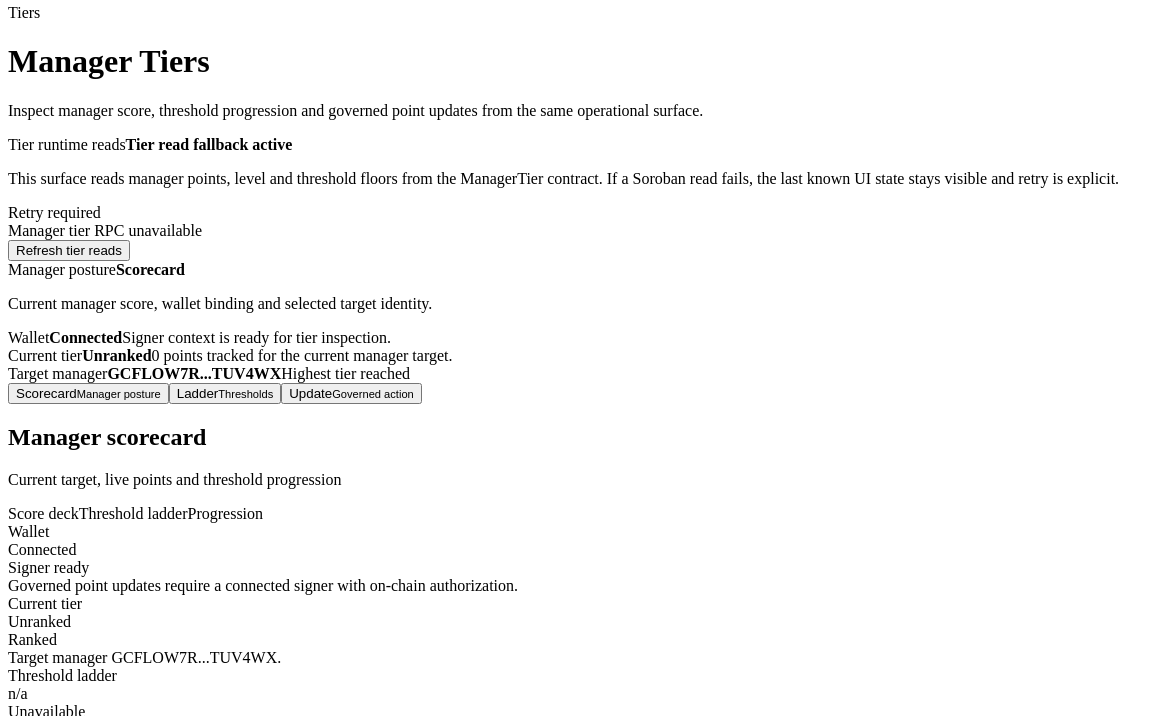
Test case: operator surface matrix integration › keeps Tiers readable after Soroban failure and preserves manager inputs on retry
Check: the text with test id "tiers-read-error" reads "Manager tier RPC unavailable", box [8,222,202,239]
Check: the element with test id "tiers-runtime-read-posture" shows "Tier read fallback active", box [126,136,292,153]
Click the button with test id "tiers-workspace-tab-update" at (351, 393), box [281,383,422,404]
(page scrolled)
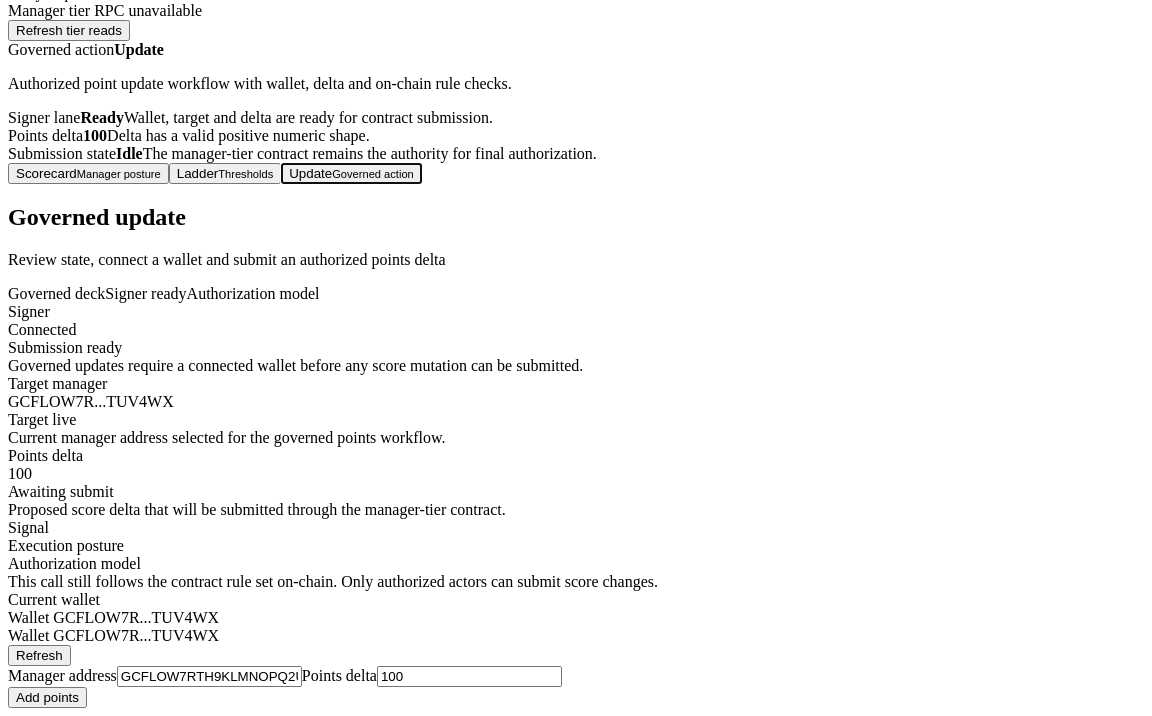
Replace the text in the field with test id "tiers-delta-input" with "250" at (470, 676), box [377,666,562,687]
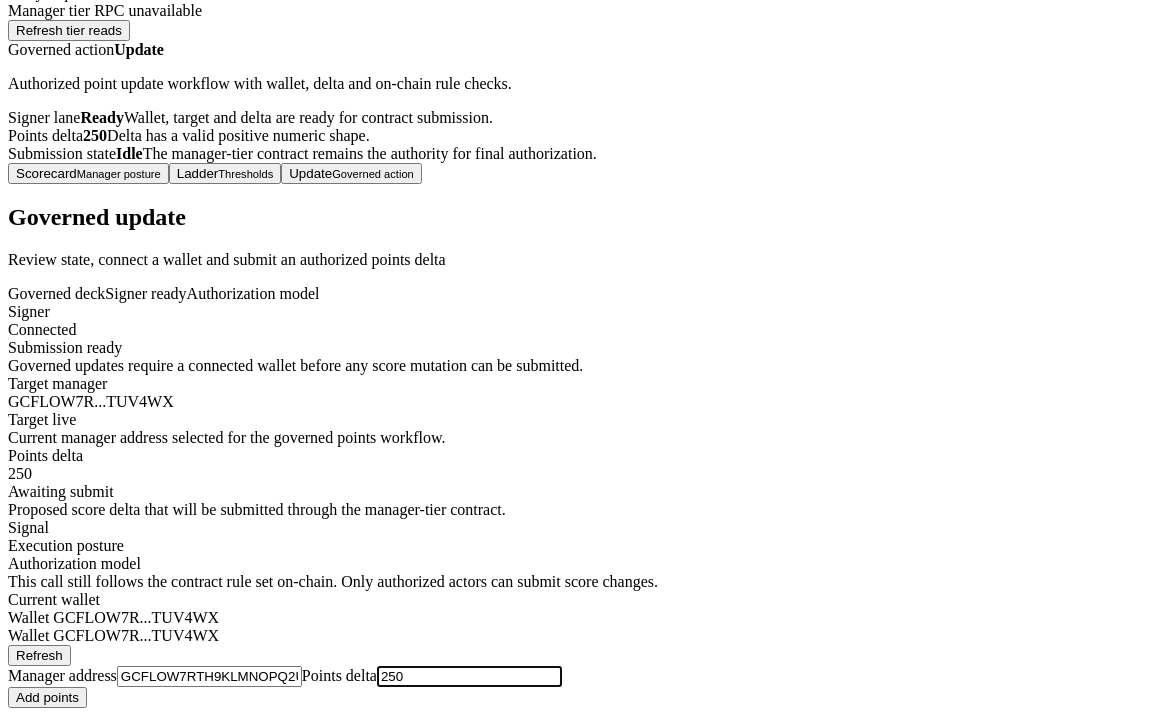
Click the button with test id "tiers-refresh-button" at (69, 30), box [8,20,130,41]
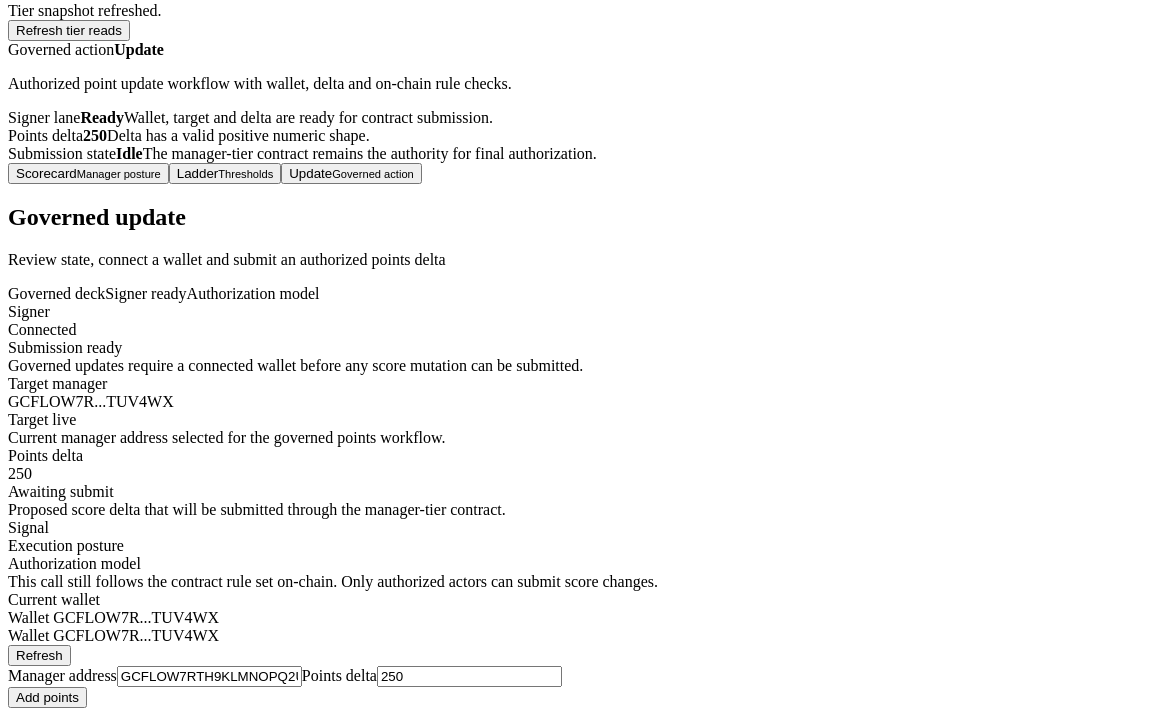
Check: the field with test id "tiers-manager-input" holds "GCFLOW7RTH9KLMNOPQ2UVWX3YZ56789ABCDEFGHJKLMNPRSTUV4WX", box [117,666,302,687]
Check: the button with test id "tiers-add-points-button" is enabled, box [8,687,87,708]
Check: the text with test id "tiers-read-error" is gone
